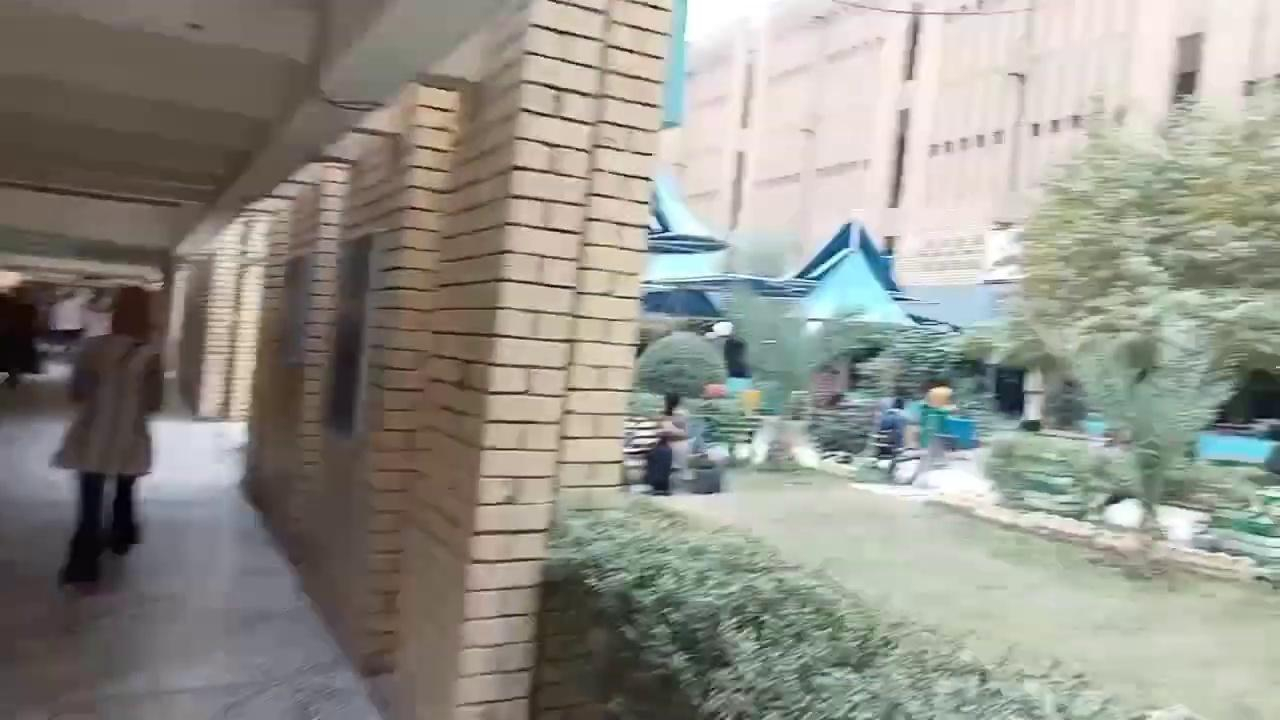person: (50, 285, 163, 587), (643, 391, 688, 495)
tree: (533, 492, 1203, 718), (1010, 72, 1278, 523), (952, 297, 1084, 429), (634, 328, 726, 411)
